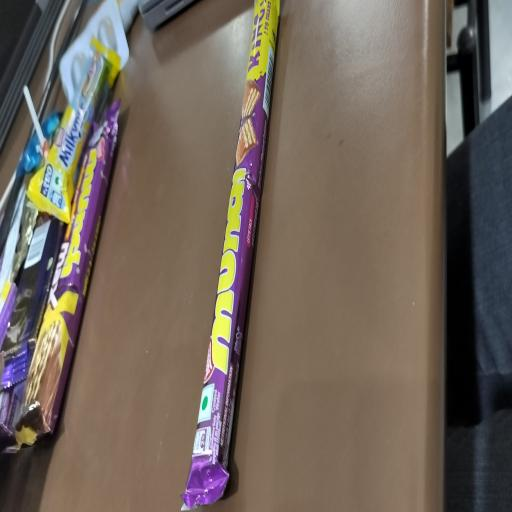chocolate: (205, 0, 274, 512), (16, 95, 114, 454), (26, 19, 124, 205), (0, 167, 45, 400)
milky-bar: (56, 88, 88, 180)
munch: (212, 152, 250, 383), (58, 138, 102, 284)
